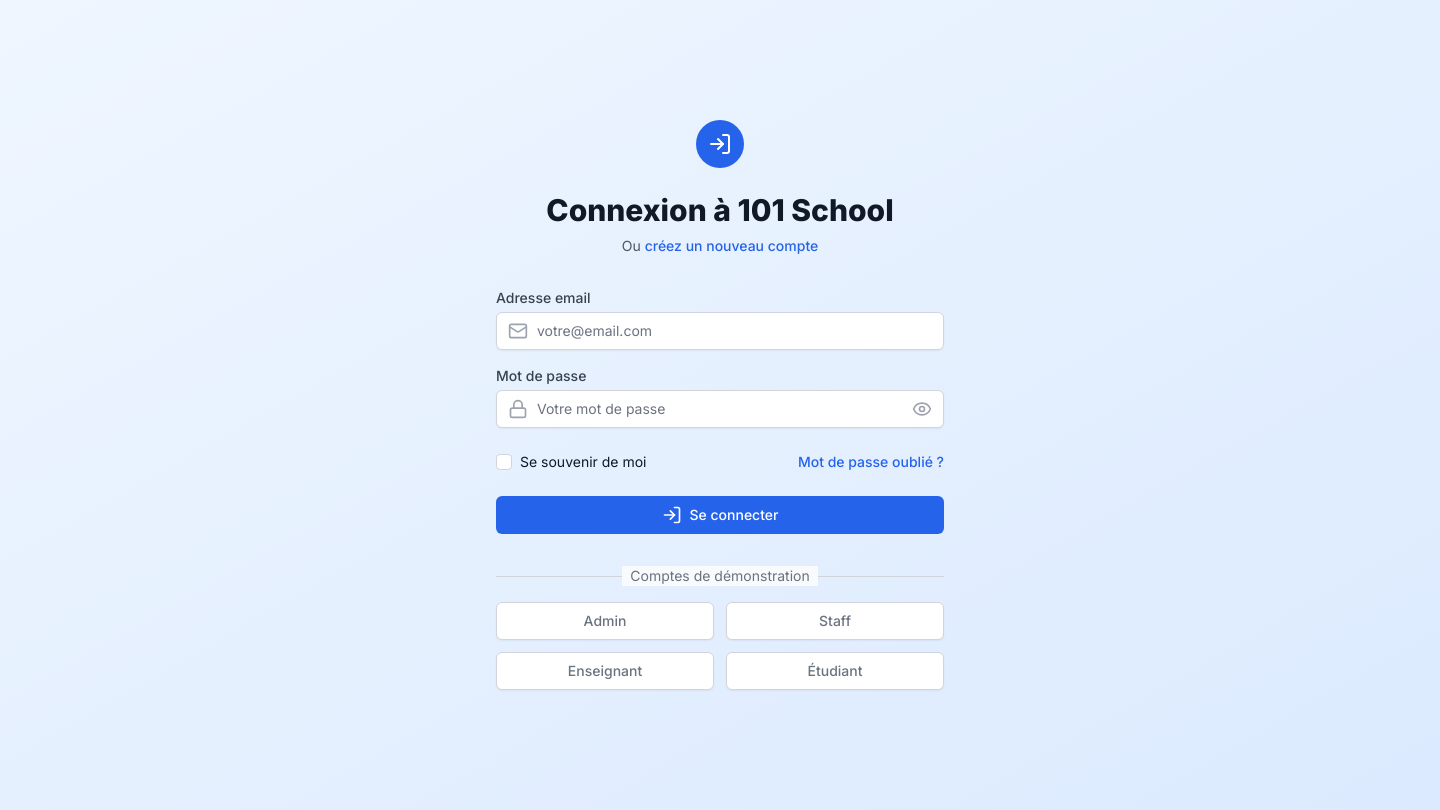
LoginForm › Form Validation › shows error when email is empty
The width and height of the screenshot is (1440, 810).
Click the button "Se connecter".
click(720, 515)  # box [496,496,944,534]
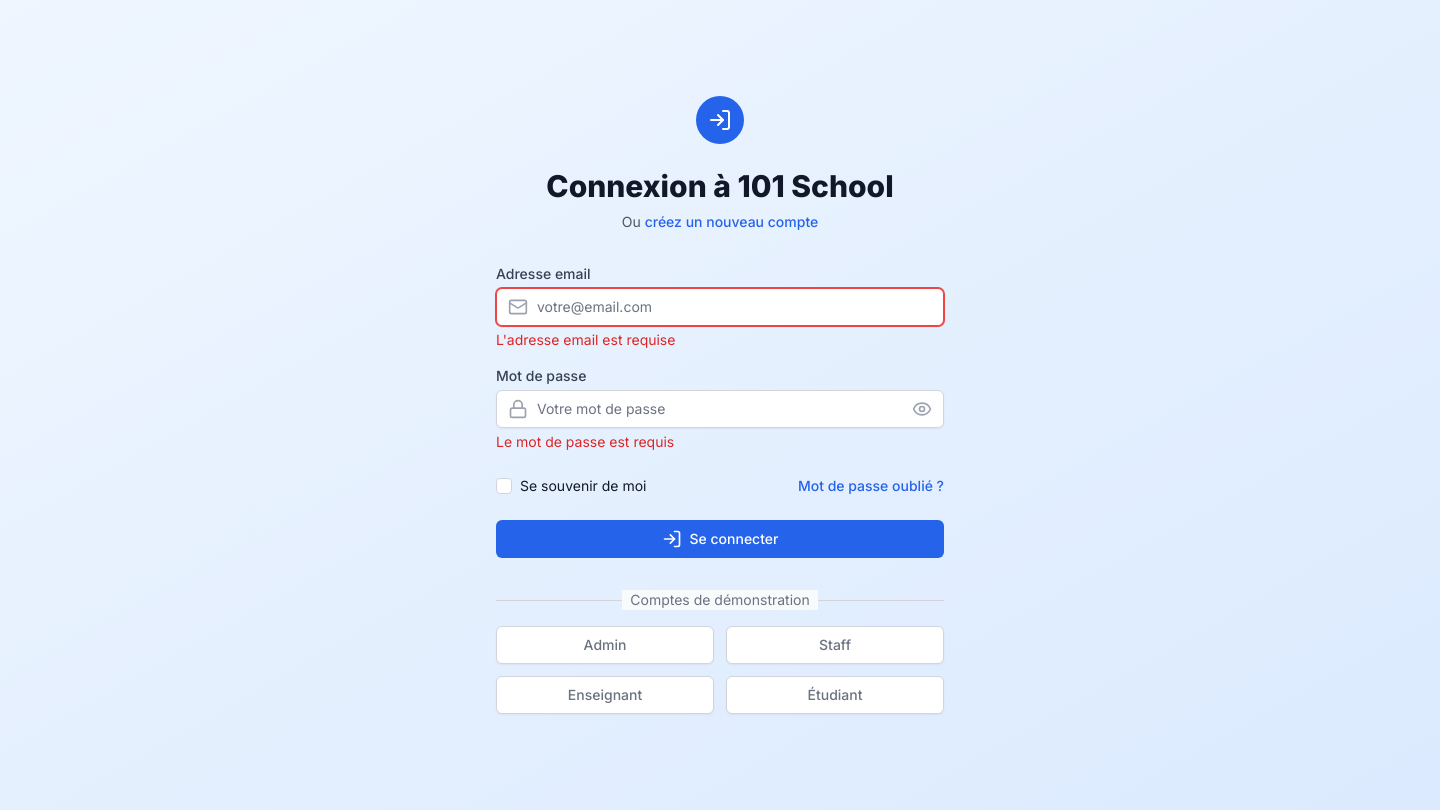
Check: the text "L'adresse email est requise" is shown, box [496,331,675,348]
